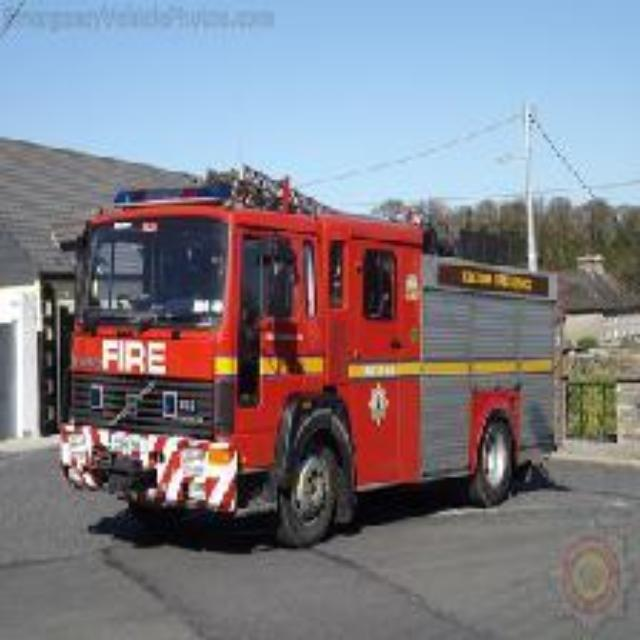emergency: (53, 172, 584, 556)
